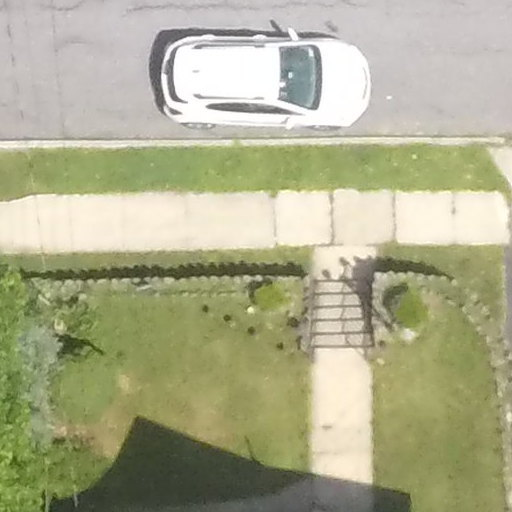car: (156, 15, 376, 142)
